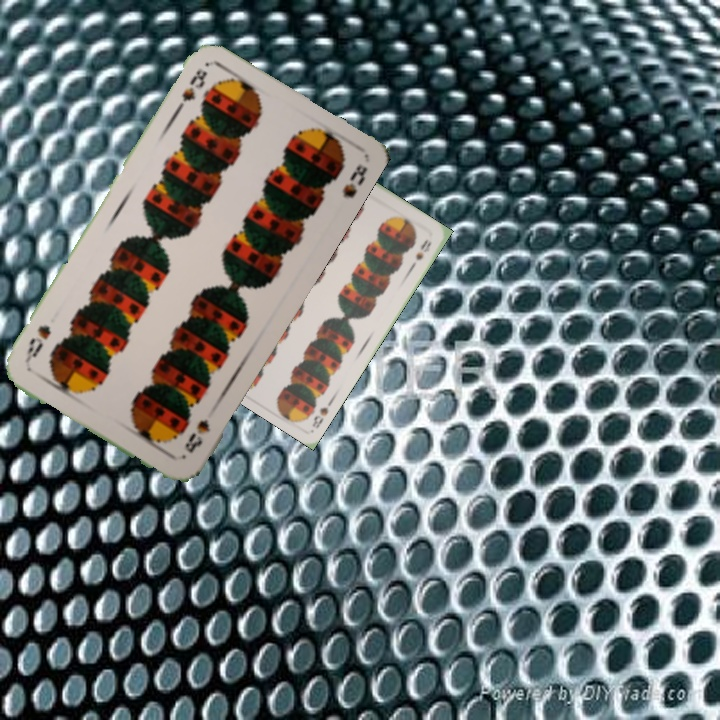S8: (170, 64, 210, 117), (180, 415, 213, 456), (308, 403, 331, 431)
